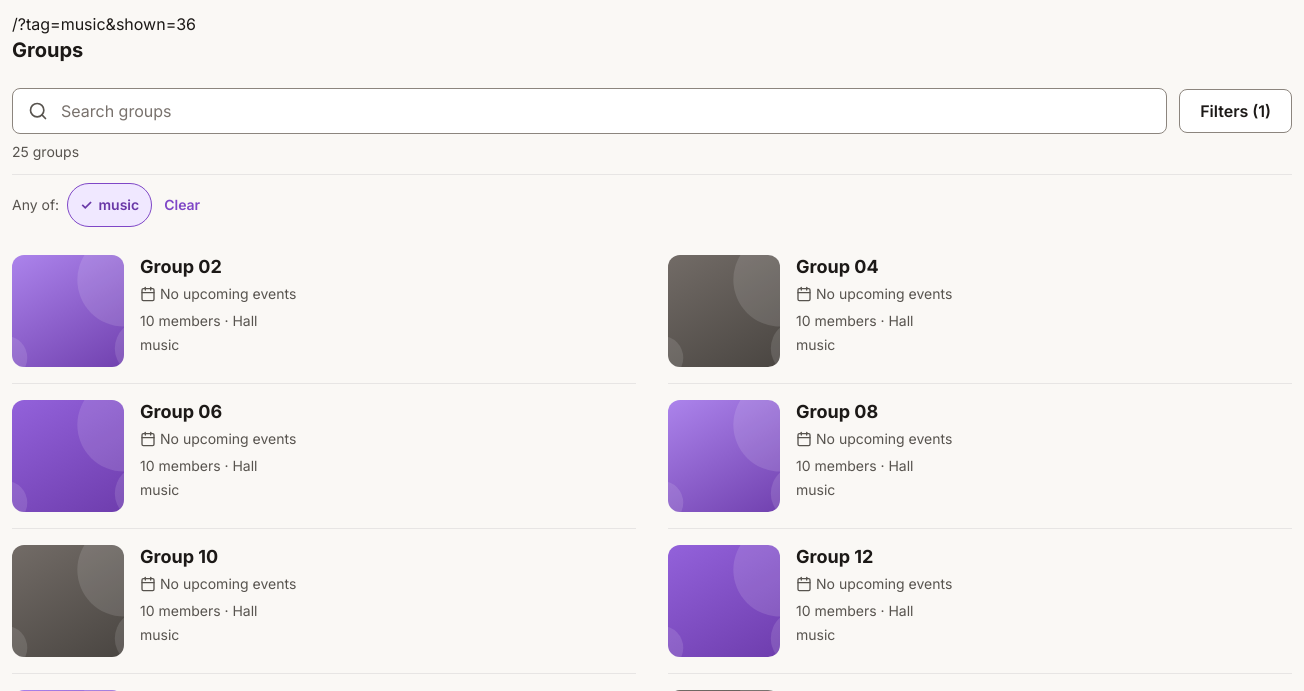
Test: collapses available tags but keeps selected tags removable
This screenshot has width=1304, height=691.
Expected: the text "25 groups" is shown, [12,143,79,160]
Expected: the button "study" is not shown
Click the button "Filters (1)": {"x": 1236, "y": 111} [1179,89,1292,133]
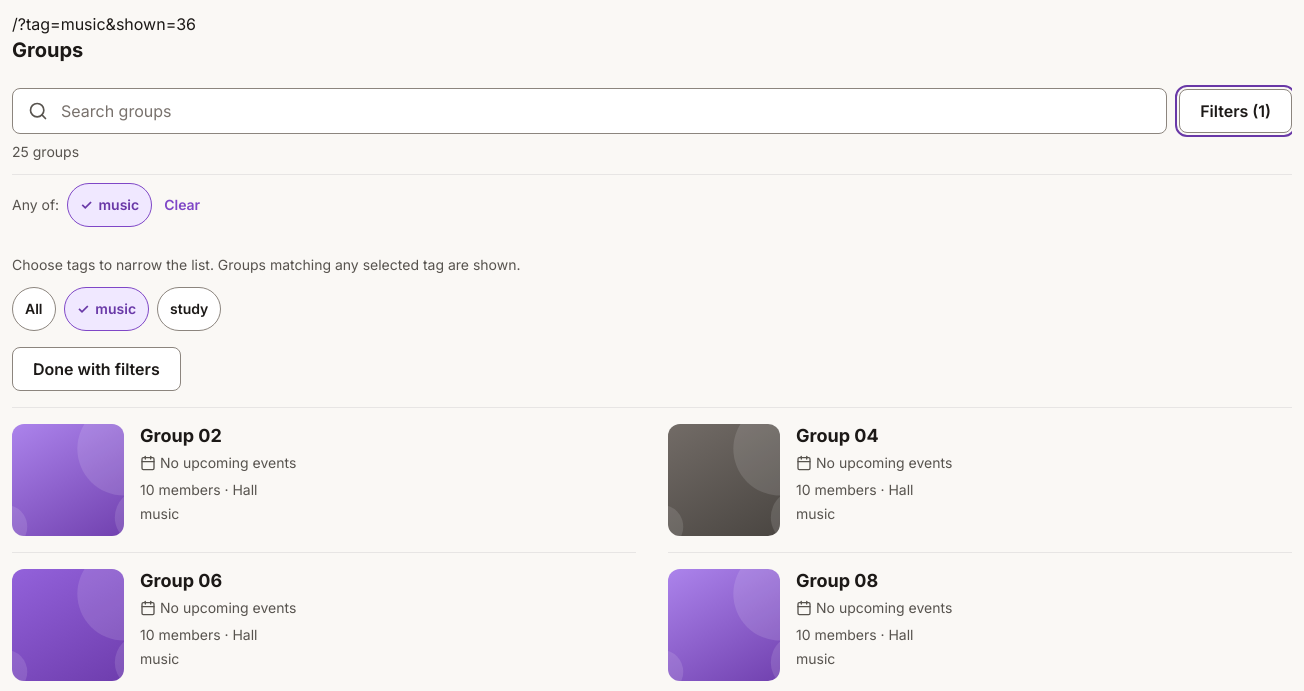
Click the button "study": {"x": 189, "y": 309} [157,287,221,331]
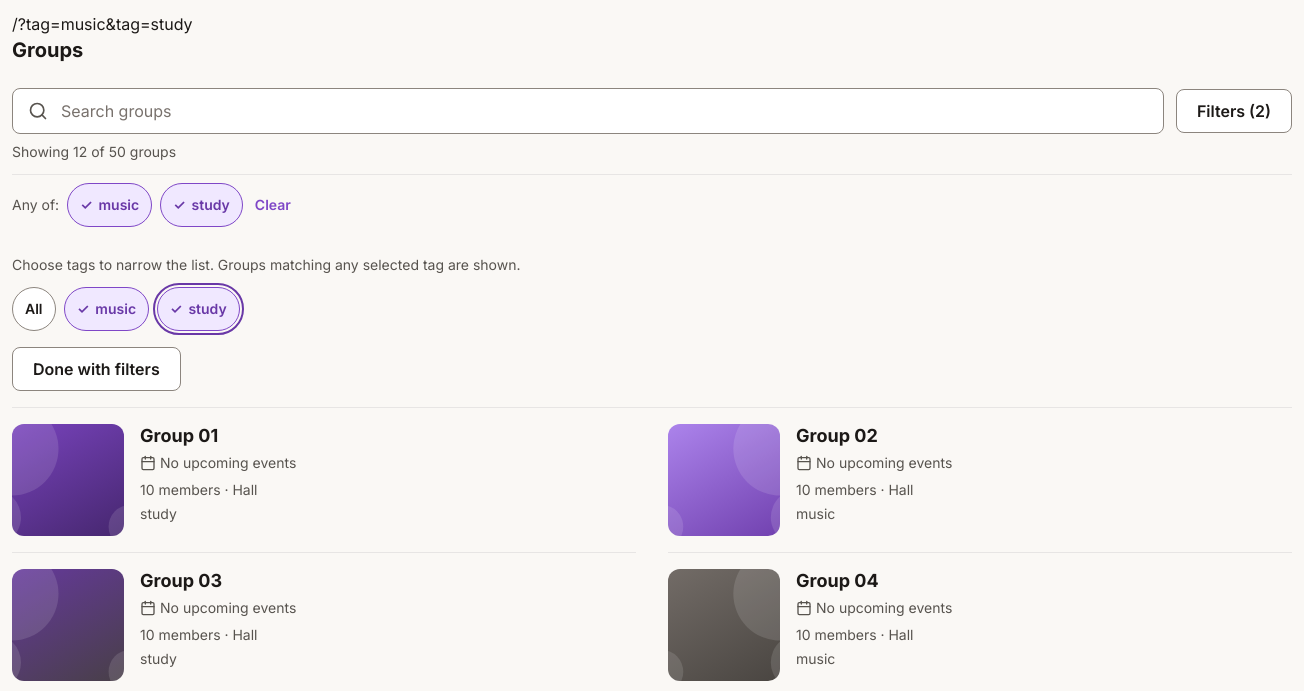
Now the text "Showing 12 of 50 groups" is shown, box [12,143,176,160]
Click the button "Done with filters": {"x": 96, "y": 369} [12,347,181,391]
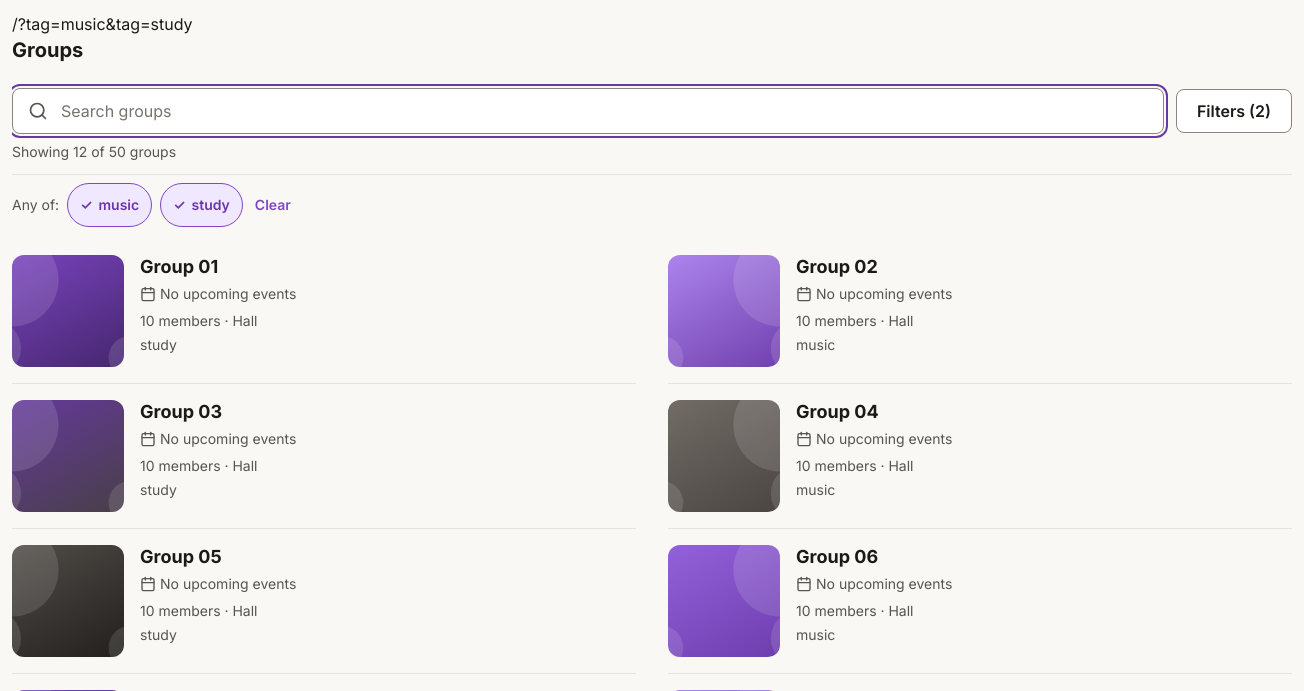
Click the button with aria-label "Remove music filter": {"x": 110, "y": 205} [67,183,152,227]
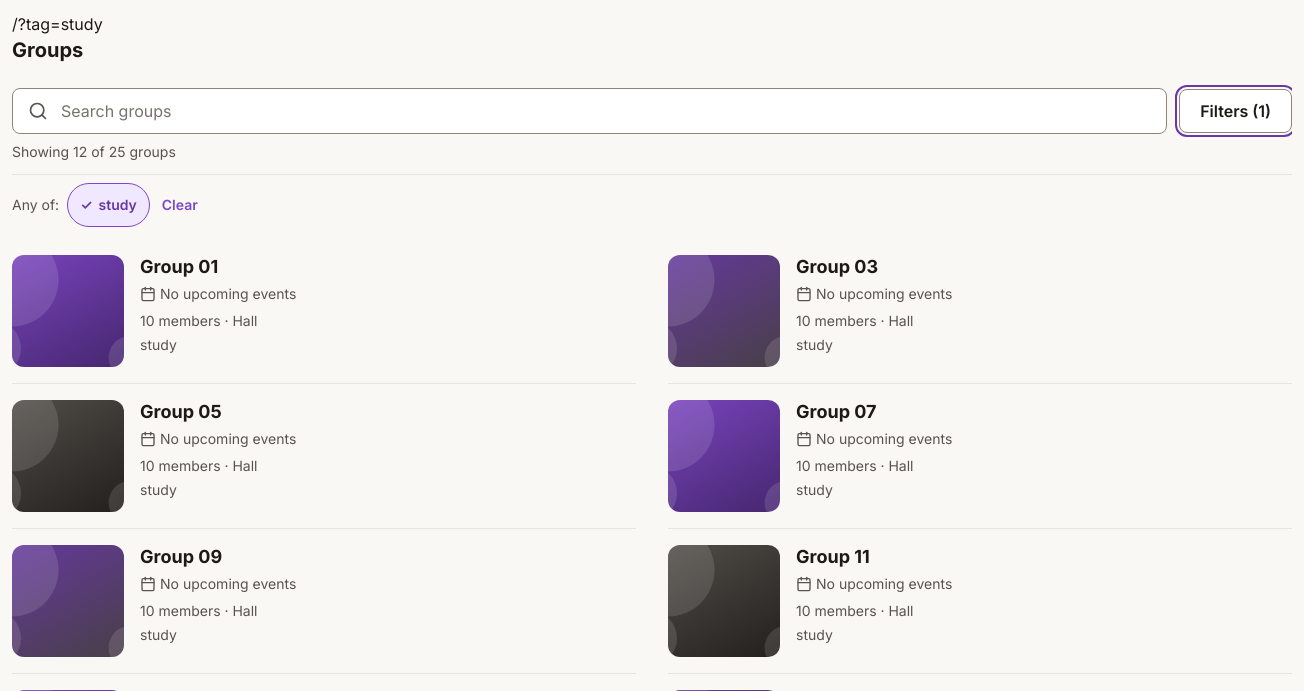
Now the text "Showing 12 of 25 groups" is shown, box [12,143,176,160]
